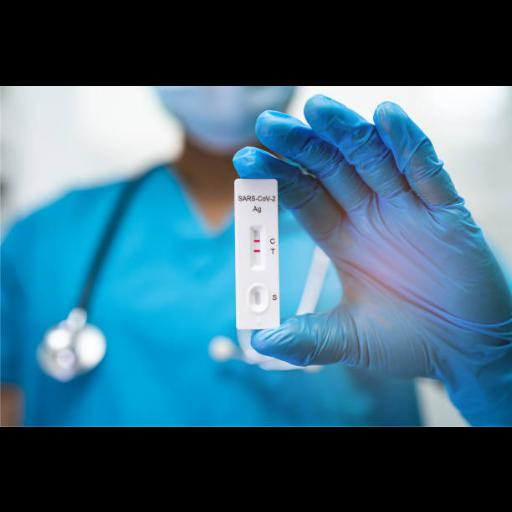Pos: (234, 178, 280, 328)
